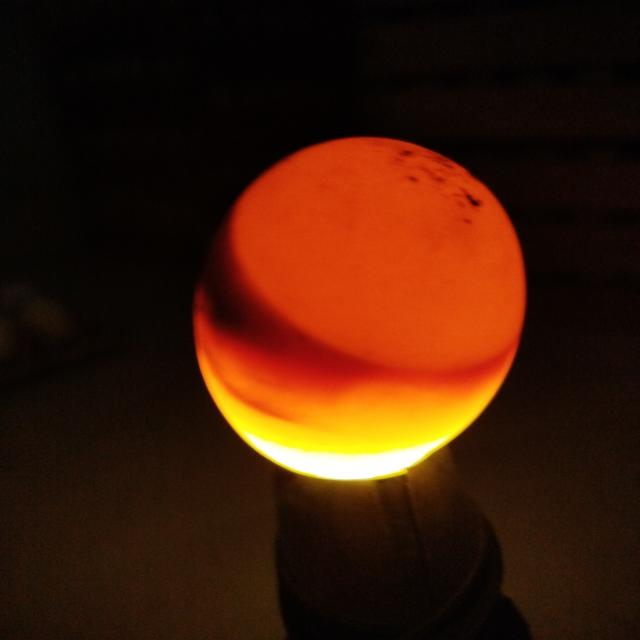Area Infectada: (194, 205, 306, 353)
